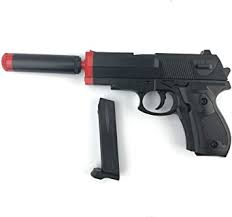Arma Falsa: (2, 50, 231, 160)
